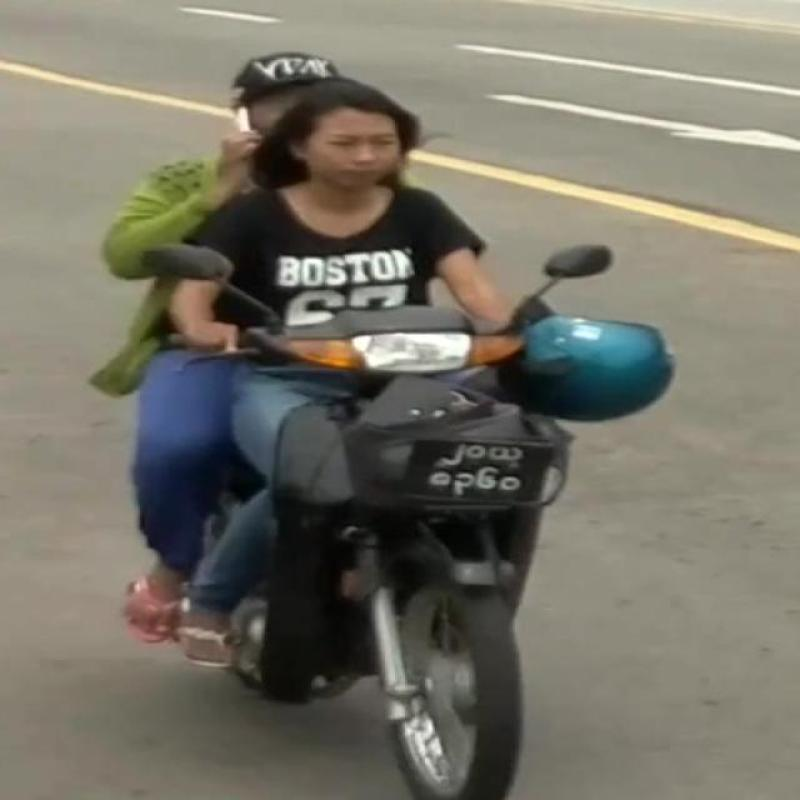nohelmet: (256, 63, 464, 217)
